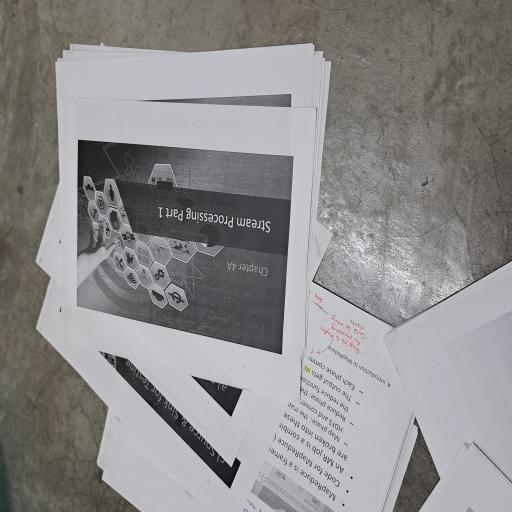paper: (0, 41, 352, 512)
